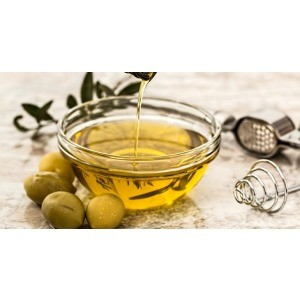vegetable oil_brain food: (62, 102, 220, 186)
